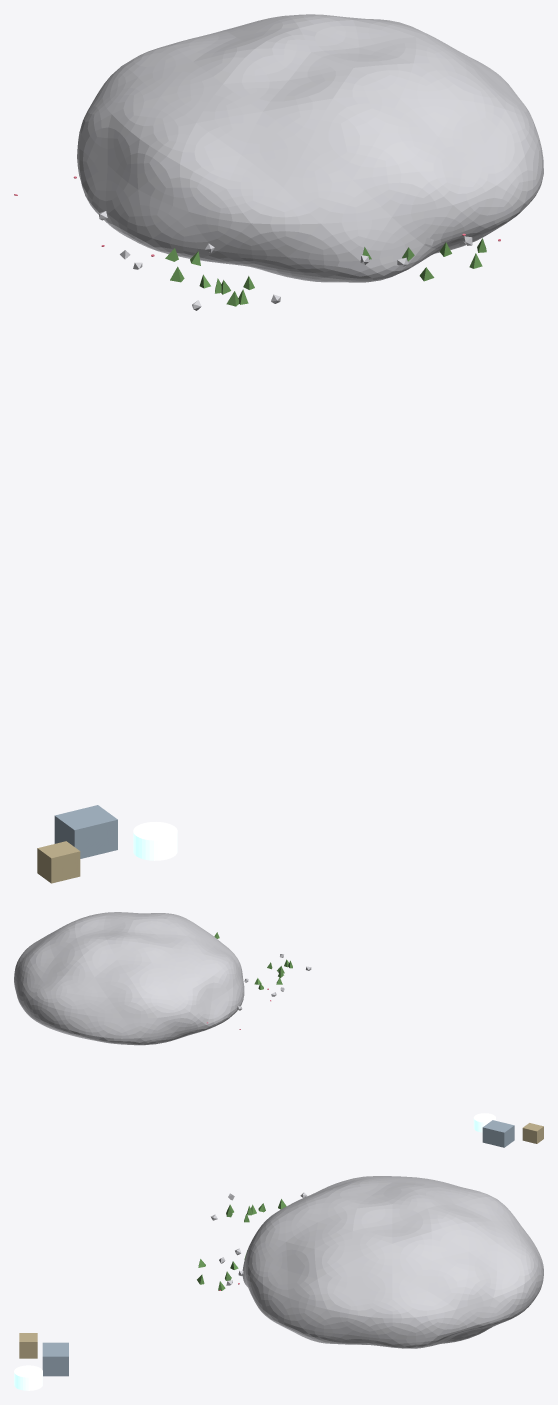
The model's file is Island_AirPeaks.fbx.
3 views of the same model, one above another, from view 1: azimuth 30°, elevation 25°; view 2: azimuth 150°, elevation 25°; view 3: azimuth 270°, elevation 25° (orthographic). The views are drawn at different scales.
Parts seen in each view (by area): view 1: TERRAIN_AirPeaks, LAB_BUILDING, HEALER_CENTER, SHOP_BUILDING; view 2: TERRAIN_AirPeaks, LAB_BUILDING, SHOP_BUILDING, HEALER_CENTER; view 3: TERRAIN_AirPeaks, LAB_BUILDING, HEALER_CENTER, SHOP_BUILDING.
Boxes of the visible parts, <box> form: TERRAIN_AirPeaks: <box>77,14,543,282</box>; LAB_BUILDING: <box>54,805,117,858</box>; HEALER_CENTER: <box>133,822,177,860</box>; SHOP_BUILDING: <box>37,841,80,883</box>; TERRAIN_AirPeaks: <box>14,912,244,1045</box>; LAB_BUILDING: <box>482,1120,514,1147</box>; SHOP_BUILDING: <box>522,1123,543,1143</box>; HEALER_CENTER: <box>473,1113,495,1132</box>; TERRAIN_AirPeaks: <box>242,1176,543,1348</box>; LAB_BUILDING: <box>42,1342,68,1376</box>; HEALER_CENTER: <box>14,1365,42,1390</box>; SHOP_BUILDING: <box>19,1333,37,1358</box>.
Bounding box in the file's own units: 309 × 195 × 291.
